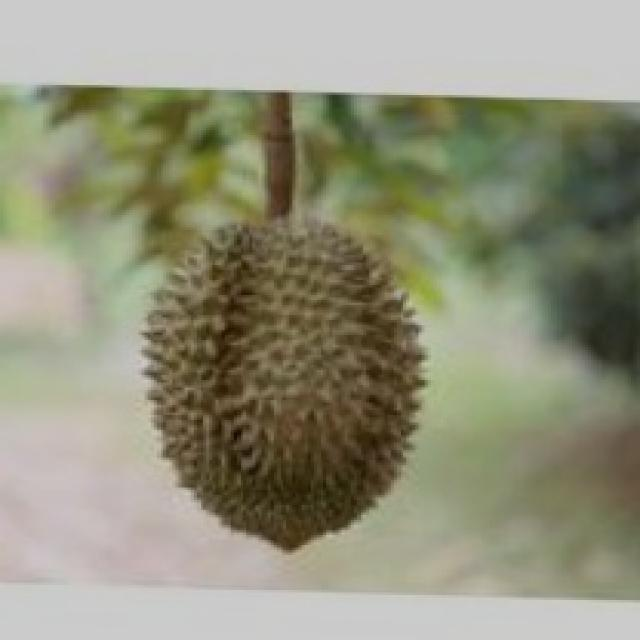fruit: (101, 190, 462, 565)
